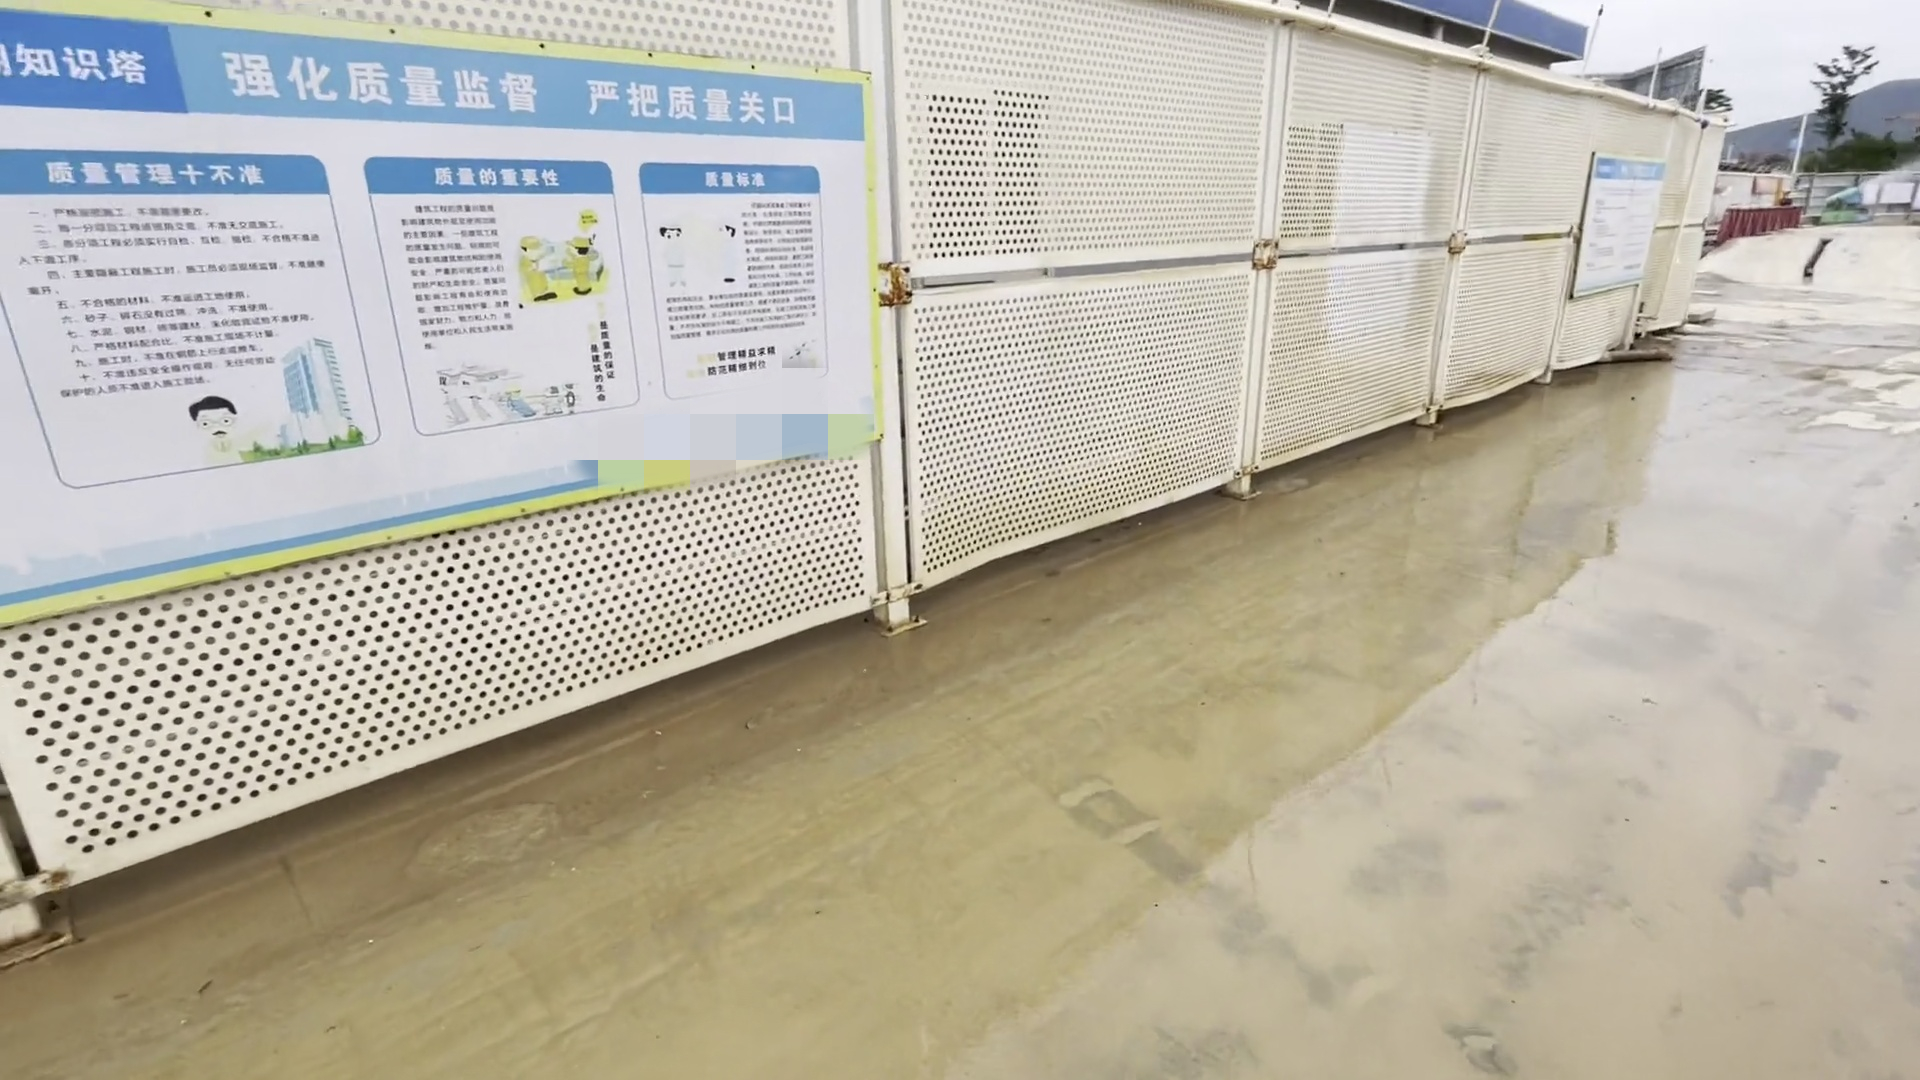slogan: (15, 16, 893, 609)
